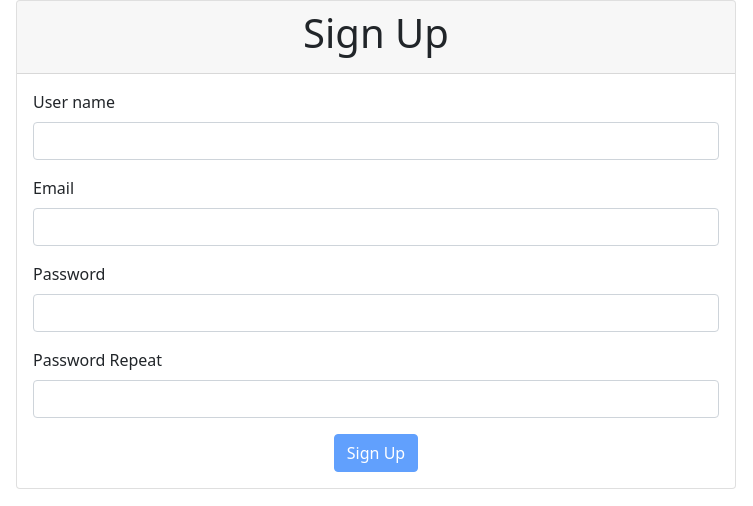
Test: Sign Up Page › Interactions › enables the button when password and confirm password fields have the same value
Step 1. Type "username" into the field labelled "User name" → (376,141), box [33, 122, 719, 160]
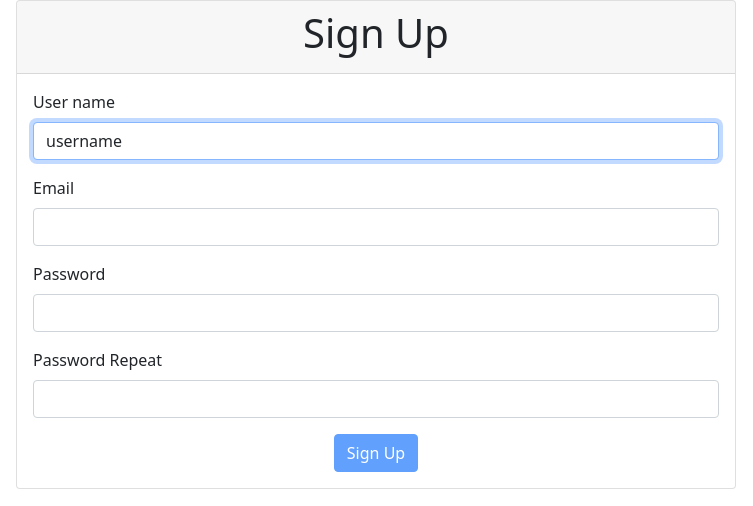
Step 2. Type "email@email.com" into the field labelled "Email" → (376,227), box [33, 208, 719, 246]
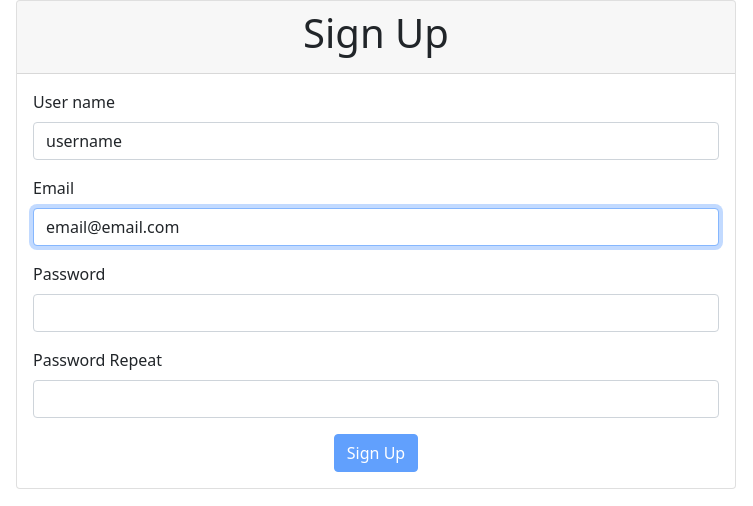
Step 3. Type "password" into the password field labelled "Password" → (376,313), box [33, 294, 719, 332]
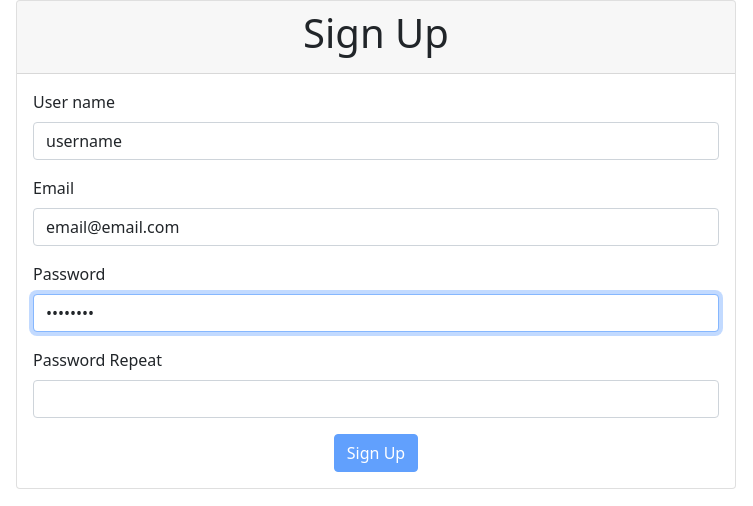
Step 4. Type "password" into the password field labelled "Password Repeat" → (376,399), box [33, 380, 719, 418]
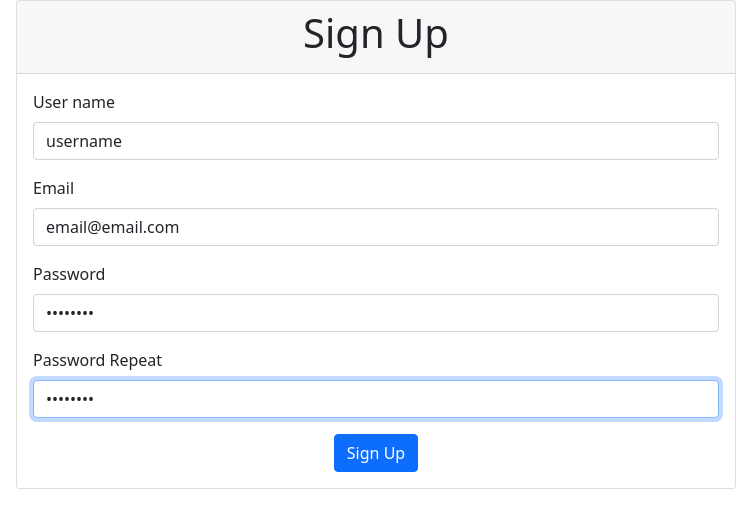
Check: the button "Sign Up" is enabled, box [334, 434, 418, 472]
